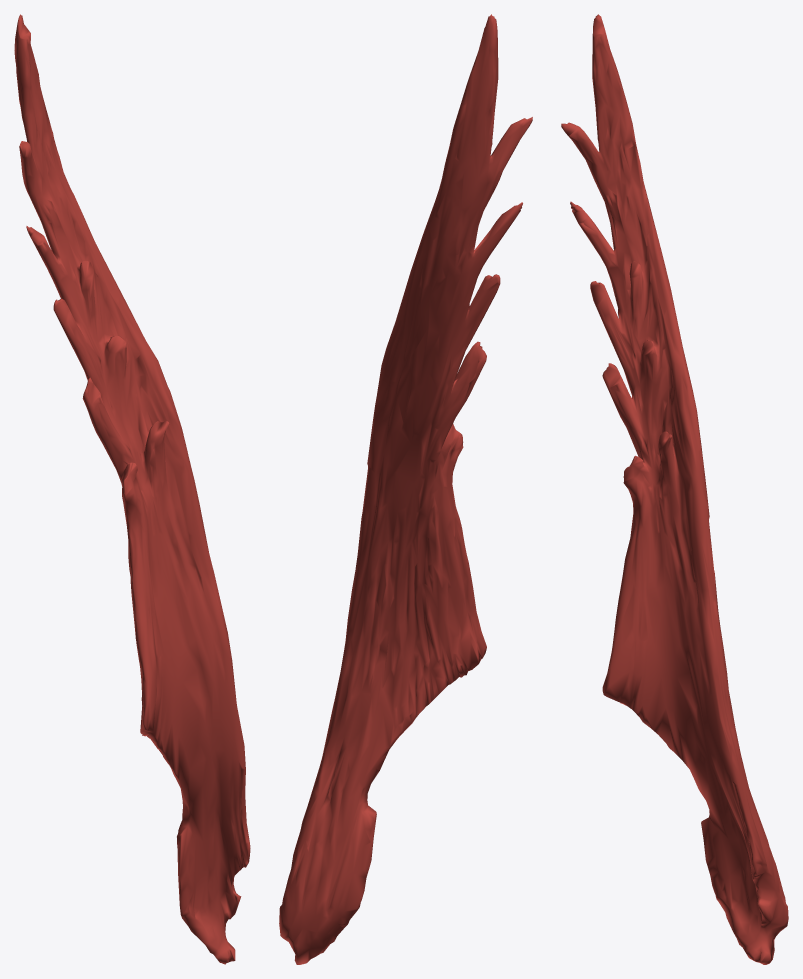
File: musculos-iliocostalis-lumborum-muscle-r.glb
3 views of the same model, side by side, from view 1: azimuth 30°, elevation 25°; view 2: azimuth 150°, elevation 25°; view 3: azimuth 330°, elevation 25° (orthographic). The views are drawn at different scales.
Parts seen in each view (by area): view 1: Iliocostalis lumborum muscle.r; view 2: Iliocostalis lumborum muscle.r; view 3: Iliocostalis lumborum muscle.r.
Part boxes in pixels (<box>): Iliocostalis lumborum muscle.r: <box>14,14,250,964</box>; Iliocostalis lumborum muscle.r: <box>279,14,532,964</box>; Iliocostalis lumborum muscle.r: <box>561,14,788,964</box>.
Bounding box in the file's own units: 0.0945 × 0.3903 × 0.0475.
